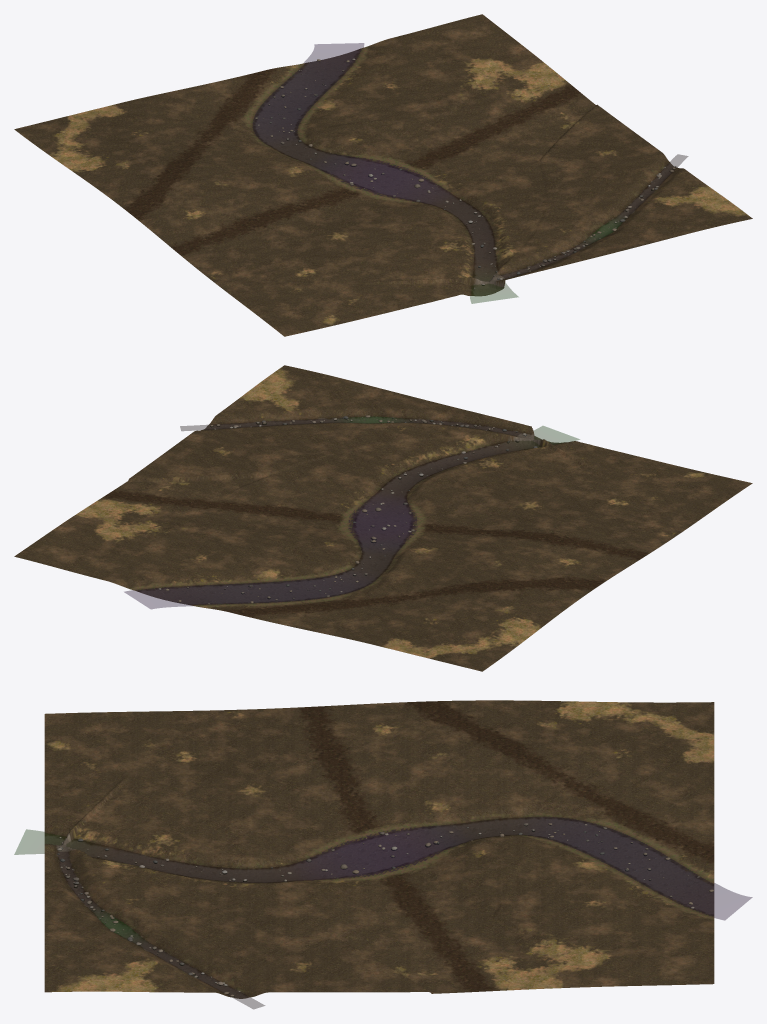
The model's file is test_ford.glb.
3 renders of one model, top to bottom at view 1: azimuth 30°, elevation 25°; view 2: azimuth 150°, elevation 25°; view 3: azimuth 270°, elevation 25°, orthographic. The views are drawn at different scales.
Visible parts, largest first — view 1: Terrain_TestFord, Water_Main_stream, Water_East_spring_brook, Water_Details_Stones; view 2: Terrain_TestFord, Water_Main_stream, Water_East_spring_brook, Water_Details_Stones; view 3: Terrain_TestFord, Water_Main_stream, Water_East_spring_brook, Water_Details_Stones.
Part boxes in pixels (x1,y1,x2,y2): Terrain_TestFord: [14, 14, 752, 336]; Water_Main_stream: [252, 43, 518, 303]; Water_East_spring_brook: [501, 154, 688, 278]; Water_Details_Stones: [255, 58, 675, 288]; Terrain_TestFord: [14, 365, 752, 671]; Water_Main_stream: [124, 426, 579, 609]; Water_East_spring_brook: [180, 416, 520, 435]; Water_Details_Stones: [158, 415, 537, 604]; Terrain_TestFord: [44, 700, 714, 998]; Water_Main_stream: [14, 817, 752, 920]; Water_East_spring_brook: [57, 852, 264, 1009]; Water_Details_Stones: [57, 823, 713, 997].
Size of the model in its own units: 83.45 by 3.56 by 88.28.
Materials: 3 (2 with a texture image).
